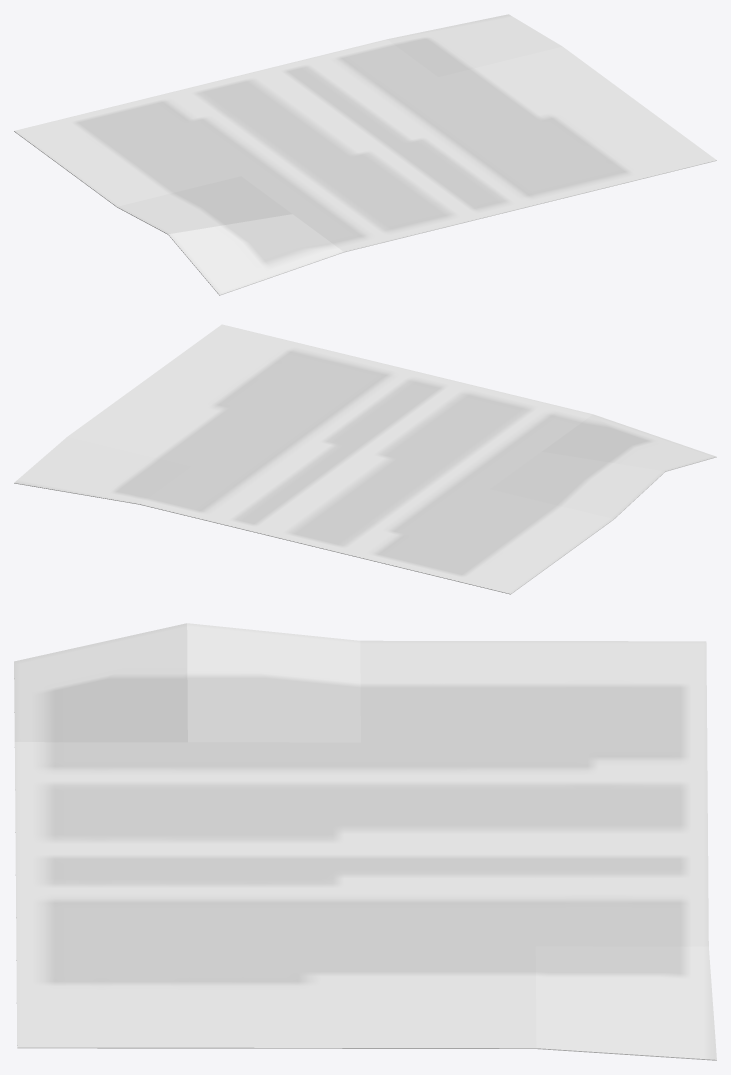
Rendered from Paper08.fbx.
3 renders of one model, top to bottom at view 1: azimuth 30°, elevation 25°; view 2: azimuth 150°, elevation 25°; view 3: azimuth 270°, elevation 25°, orthographic. The views are drawn at different scales.
Visible parts, largest first — view 1: Paper08; view 2: Paper08; view 3: Paper08.
Part boxes in pixels (x1,y1,x2,y2): Paper08: (14,14,716,295); Paper08: (14,324,716,594); Paper08: (14,623,716,1060).
Bounding box in the file's own units: 0.3368 × 0.2453 × 0.0152.
